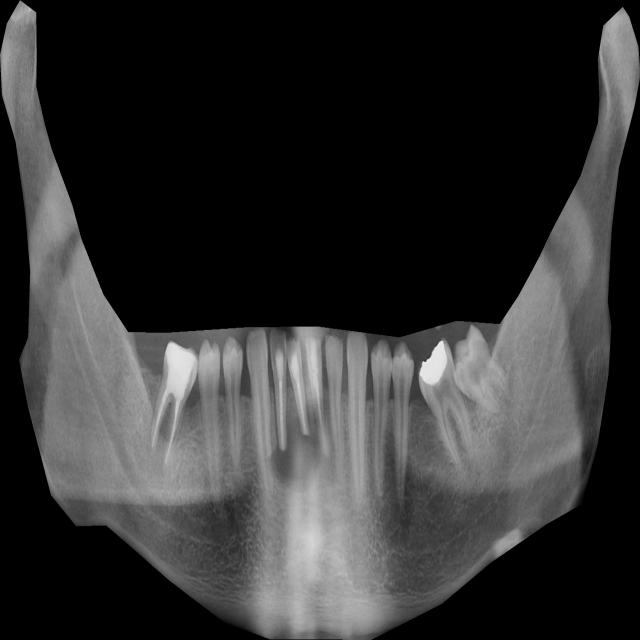mandibula: (0, 0, 640, 640)
